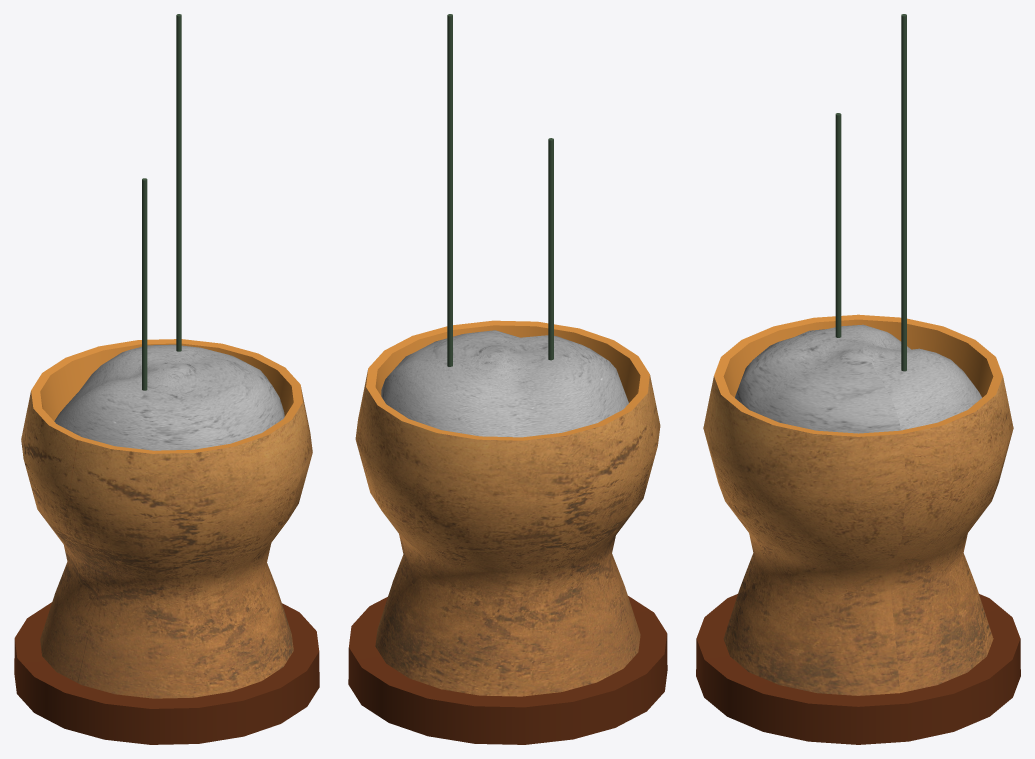
File: INCENSO_ALL.fbx
3 views of the same model, side by side, from view 1: azimuth 30°, elevation 25°; view 2: azimuth 150°, elevation 25°; view 3: azimuth 270°, elevation 25° (orthographic). The views are drawn at different scales.
Visible parts, largest first — view 1: POTE, Po, Incenso1, Incenso2; view 2: POTE, Po, Incenso1, Incenso2; view 3: POTE, Po, Incenso1, Incenso2.
Part boxes in pixels (x1,y1,x2,y2): POTE: (14, 339, 319, 744); Po: (54, 344, 284, 450); Incenso1: (176, 14, 181, 351); Incenso2: (142, 178, 147, 390); POTE: (348, 320, 667, 744); Po: (381, 330, 628, 437); Incenso1: (447, 14, 452, 366); Incenso2: (548, 138, 553, 360); POTE: (696, 314, 1020, 744); Po: (735, 324, 981, 433); Incenso1: (901, 14, 906, 371); Incenso2: (835, 113, 841, 337).
Bounding box in the file's own units: 7.9 × 18.28 × 7.9.
